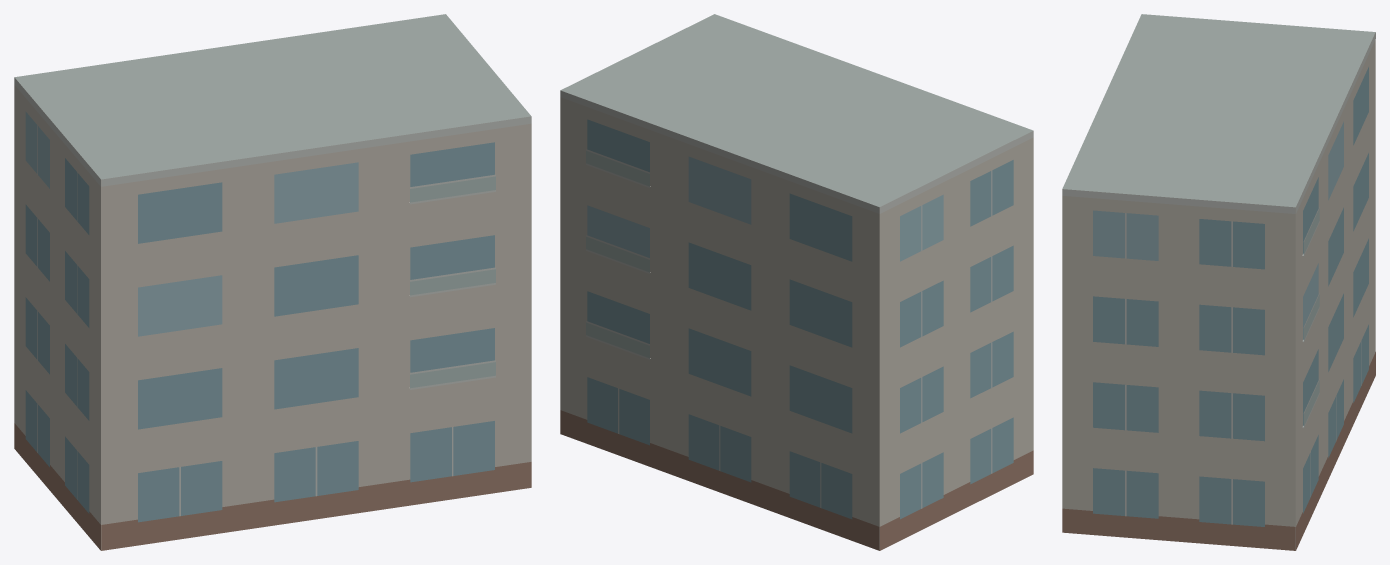
The model's file is survey-upis-32868612.glb.
3 renders of one model, left to right at view 1: azimuth 30°, elevation 25°; view 2: azimuth 150°, elevation 25°; view 3: azimuth 270°, elevation 25°, orthographic. The views are drawn at different scales.
Parts seen in each view (by area): view 1: survey-upis-32868612.tmp; view 2: survey-upis-32868612.tmp; view 3: survey-upis-32868612.tmp.
Boxes of the visible parts, <box> form: survey-upis-32868612.tmp: <box>14,14,531,550</box>; survey-upis-32868612.tmp: <box>560,14,1033,550</box>; survey-upis-32868612.tmp: <box>1062,14,1375,550</box>.
Size of the model in its own units: 14.98 by 12.4 by 10.27.
